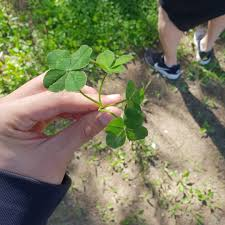4-clover: (43, 46, 90, 94), (104, 107, 149, 146), (95, 49, 131, 77)
